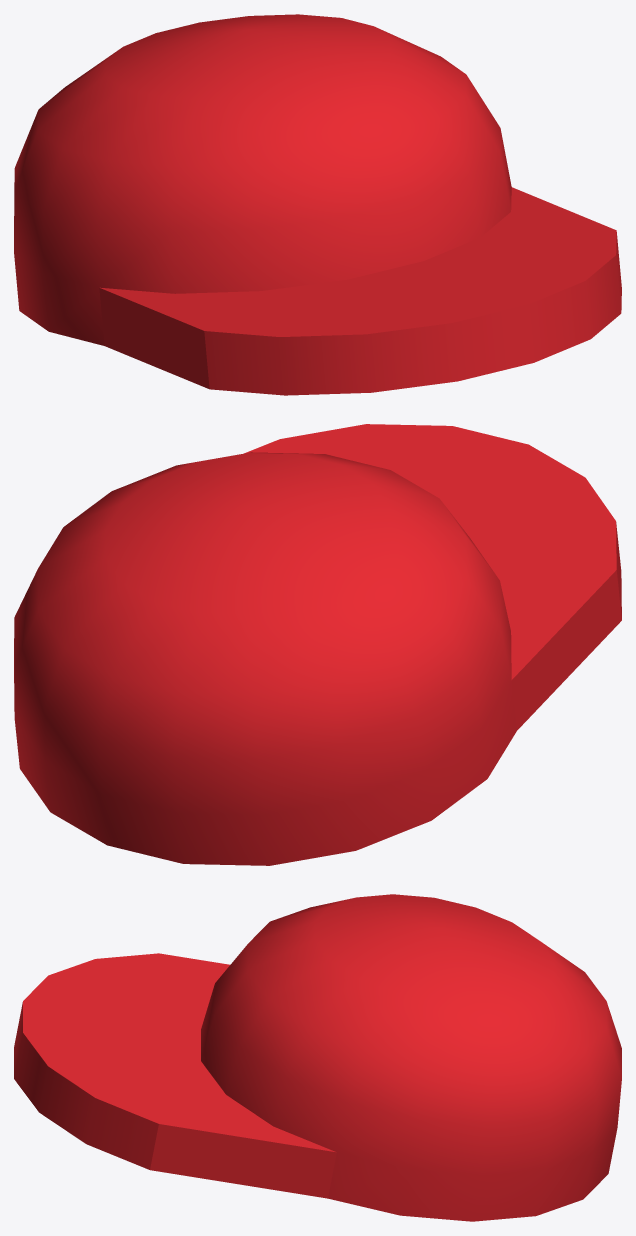
Rendered from Man02Hat.FBX.
The picture shows the model from 3 angles, top to bottom: view 1: azimuth 30°, elevation 25°; view 2: azimuth 150°, elevation 25°; view 3: azimuth 270°, elevation 25°; orthographic projection. The views are drawn at different scales.
Parts seen in each view (by area): view 1: Cylinder001; view 2: Cylinder001; view 3: Cylinder001.
Boxes of the visible parts, x1,y1,x2,y2 form: Cylinder001: (14, 14, 621, 395); Cylinder001: (14, 424, 621, 865); Cylinder001: (14, 894, 621, 1221).
Bounding box in the file's own units: 66 × 93.42 × 38.9.
1 material, 1 textured.
